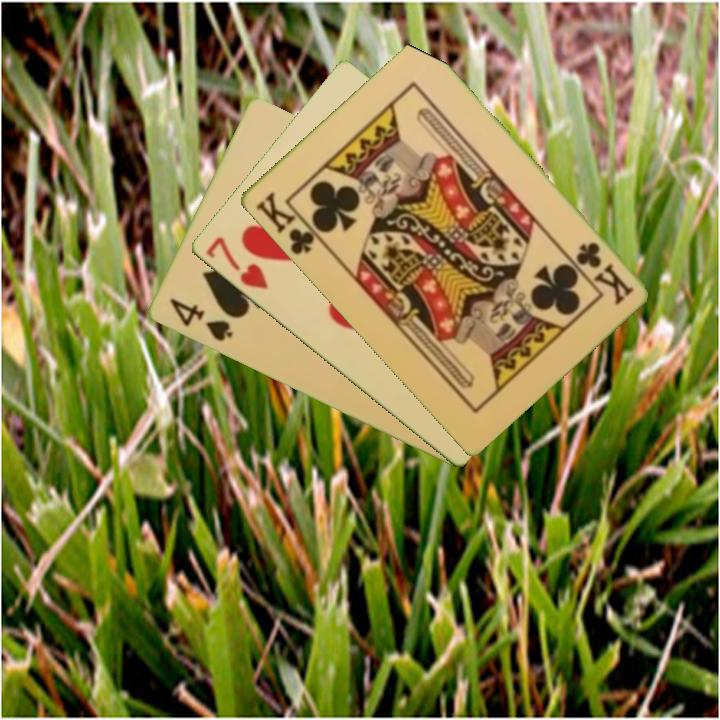4s: (165, 294, 236, 345)
7h: (201, 233, 271, 293)
Kc: (251, 188, 326, 258), (571, 238, 637, 307)
